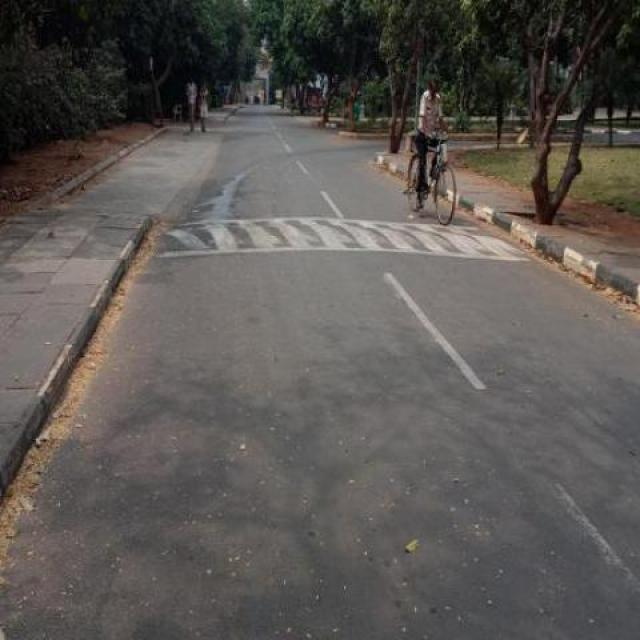Speed Bump: (150, 216, 536, 259)
